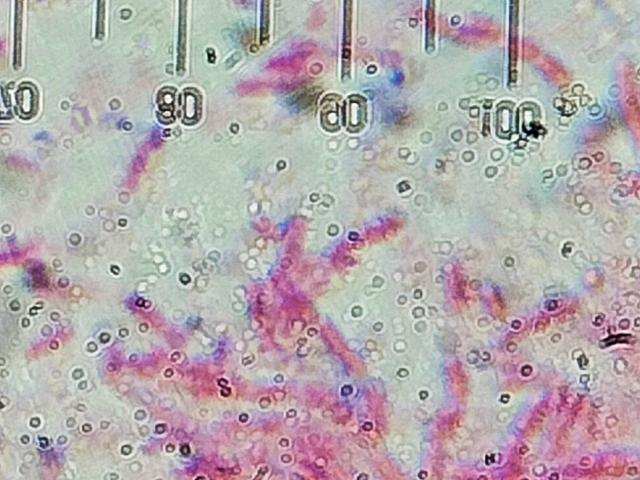E. coli: (118, 123, 169, 190), (188, 362, 274, 395), (508, 308, 581, 346), (343, 213, 402, 256), (126, 287, 175, 334), (109, 347, 168, 383), (276, 447, 339, 480), (522, 36, 564, 80), (271, 207, 304, 262), (512, 393, 537, 465), (183, 449, 243, 479), (293, 383, 349, 414), (19, 325, 67, 361), (555, 390, 581, 454), (316, 325, 358, 362), (558, 457, 633, 477), (435, 405, 456, 475), (449, 10, 493, 40), (621, 72, 640, 141), (433, 349, 464, 391), (358, 46, 403, 73), (236, 79, 288, 98), (266, 50, 306, 74), (0, 242, 34, 267), (485, 283, 506, 312), (448, 263, 468, 293)
